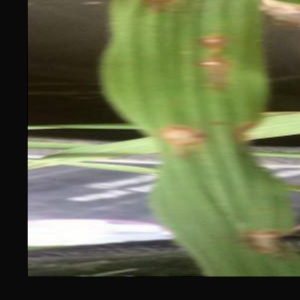Brown_Spot: (232, 221, 296, 262), (155, 115, 213, 160), (192, 53, 235, 91), (136, 0, 189, 24), (189, 27, 232, 54)
